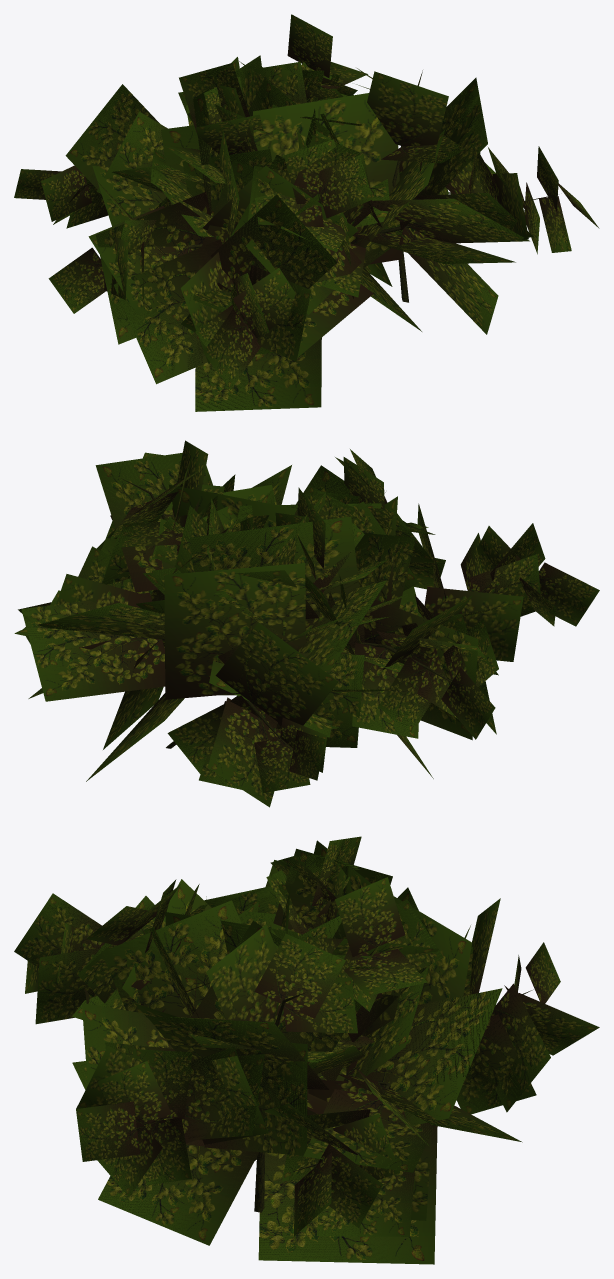
Rendered from DeadRose 2 (1).fbx.
The picture shows the model from 3 angles, top to bottom: view 1: azimuth 30°, elevation 25°; view 2: azimuth 150°, elevation 25°; view 3: azimuth 270°, elevation 25°; orthographic projection. The views are drawn at different scales.
Visible parts, largest first — view 1: DeadRose_2__1_; view 2: DeadRose_2__1_; view 3: DeadRose_2__1_.
Part boxes in pixels (x1,y1,x2,y2): DeadRose_2__1_: [14, 14, 599, 411]; DeadRose_2__1_: [14, 440, 599, 807]; DeadRose_2__1_: [14, 836, 599, 1264].
Size of the model in its own units: 396 by 253 by 383.
